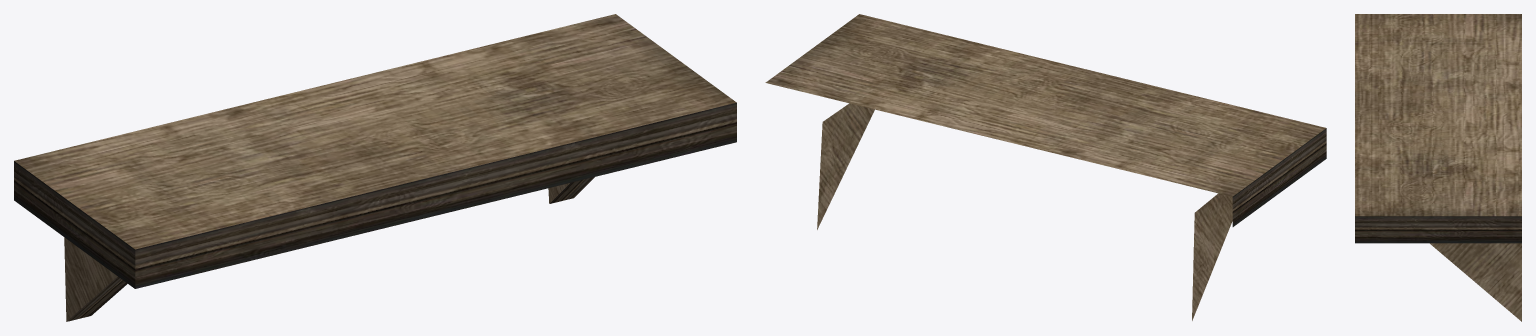
Rendered from GS_VOB_SHELF_YELLOW_01_KOZA.glb.
3 renders of one model, left to right at view 1: azimuth 30°, elevation 25°; view 2: azimuth 150°, elevation 25°; view 3: azimuth 270°, elevation 25°, orthographic. The views are drawn at different scales.
Visible parts, largest first — view 1: GS_VOB_SHELF_YELLOW_01_KOZA; view 2: GS_VOB_SHELF_YELLOW_01_KOZA; view 3: GS_VOB_SHELF_YELLOW_01_KOZA.
Part boxes in pixels (x1,y1,x2,y2): GS_VOB_SHELF_YELLOW_01_KOZA: (14, 14, 736, 321); GS_VOB_SHELF_YELLOW_01_KOZA: (765, 14, 1326, 320); GS_VOB_SHELF_YELLOW_01_KOZA: (1355, 14, 1521, 321).
Size of the model in its own units: 1.91 by 0.5274 by 0.6657.
2 materials, 2 textured.
